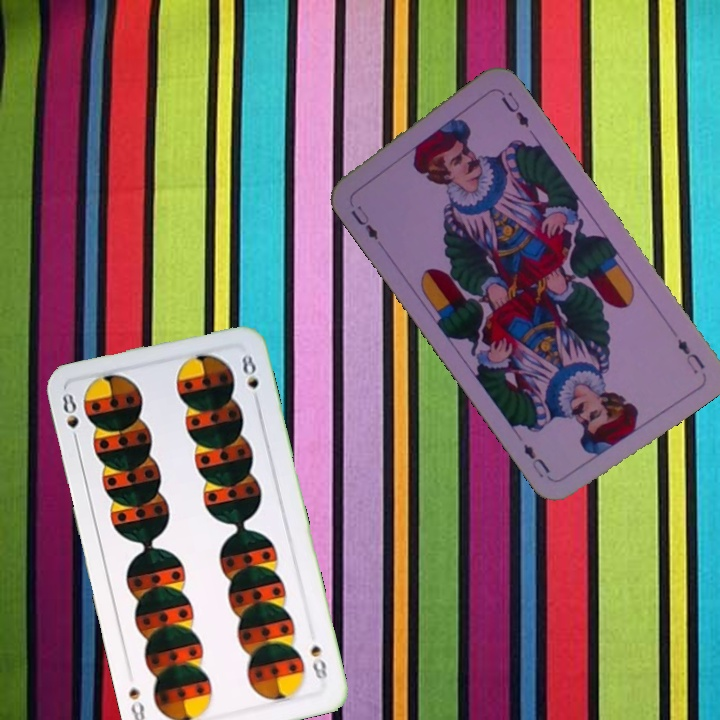EU: (673, 334, 708, 377), (346, 201, 381, 243)
S8: (58, 389, 82, 448), (306, 641, 331, 687)
